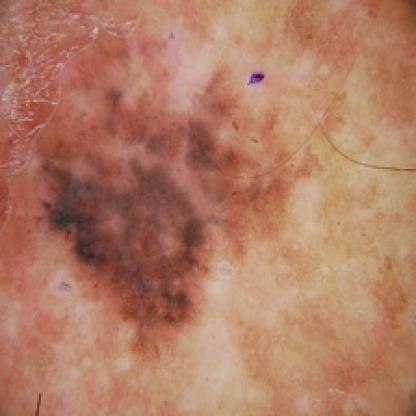malignant: (7, 26, 301, 358)
